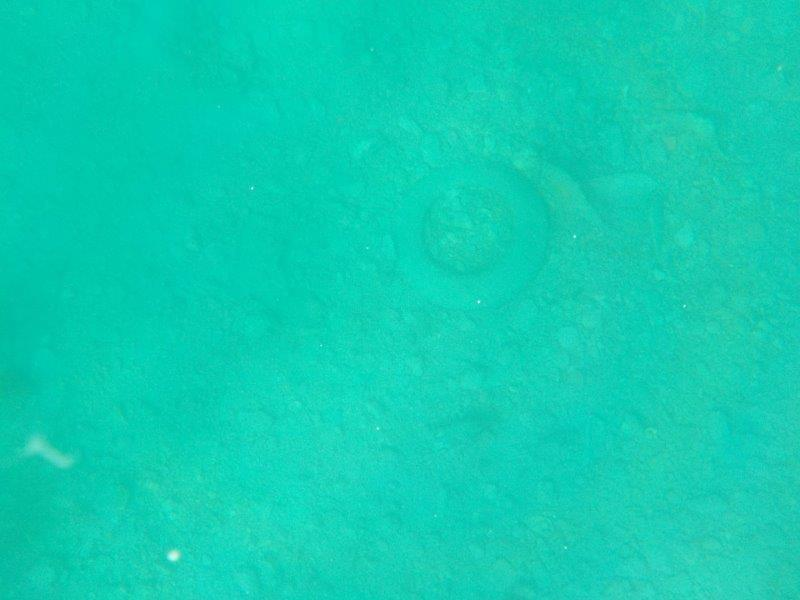tire: (385, 149, 558, 312)
